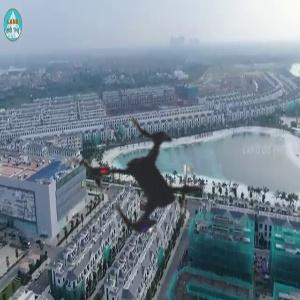drone: (27, 53, 275, 300)
